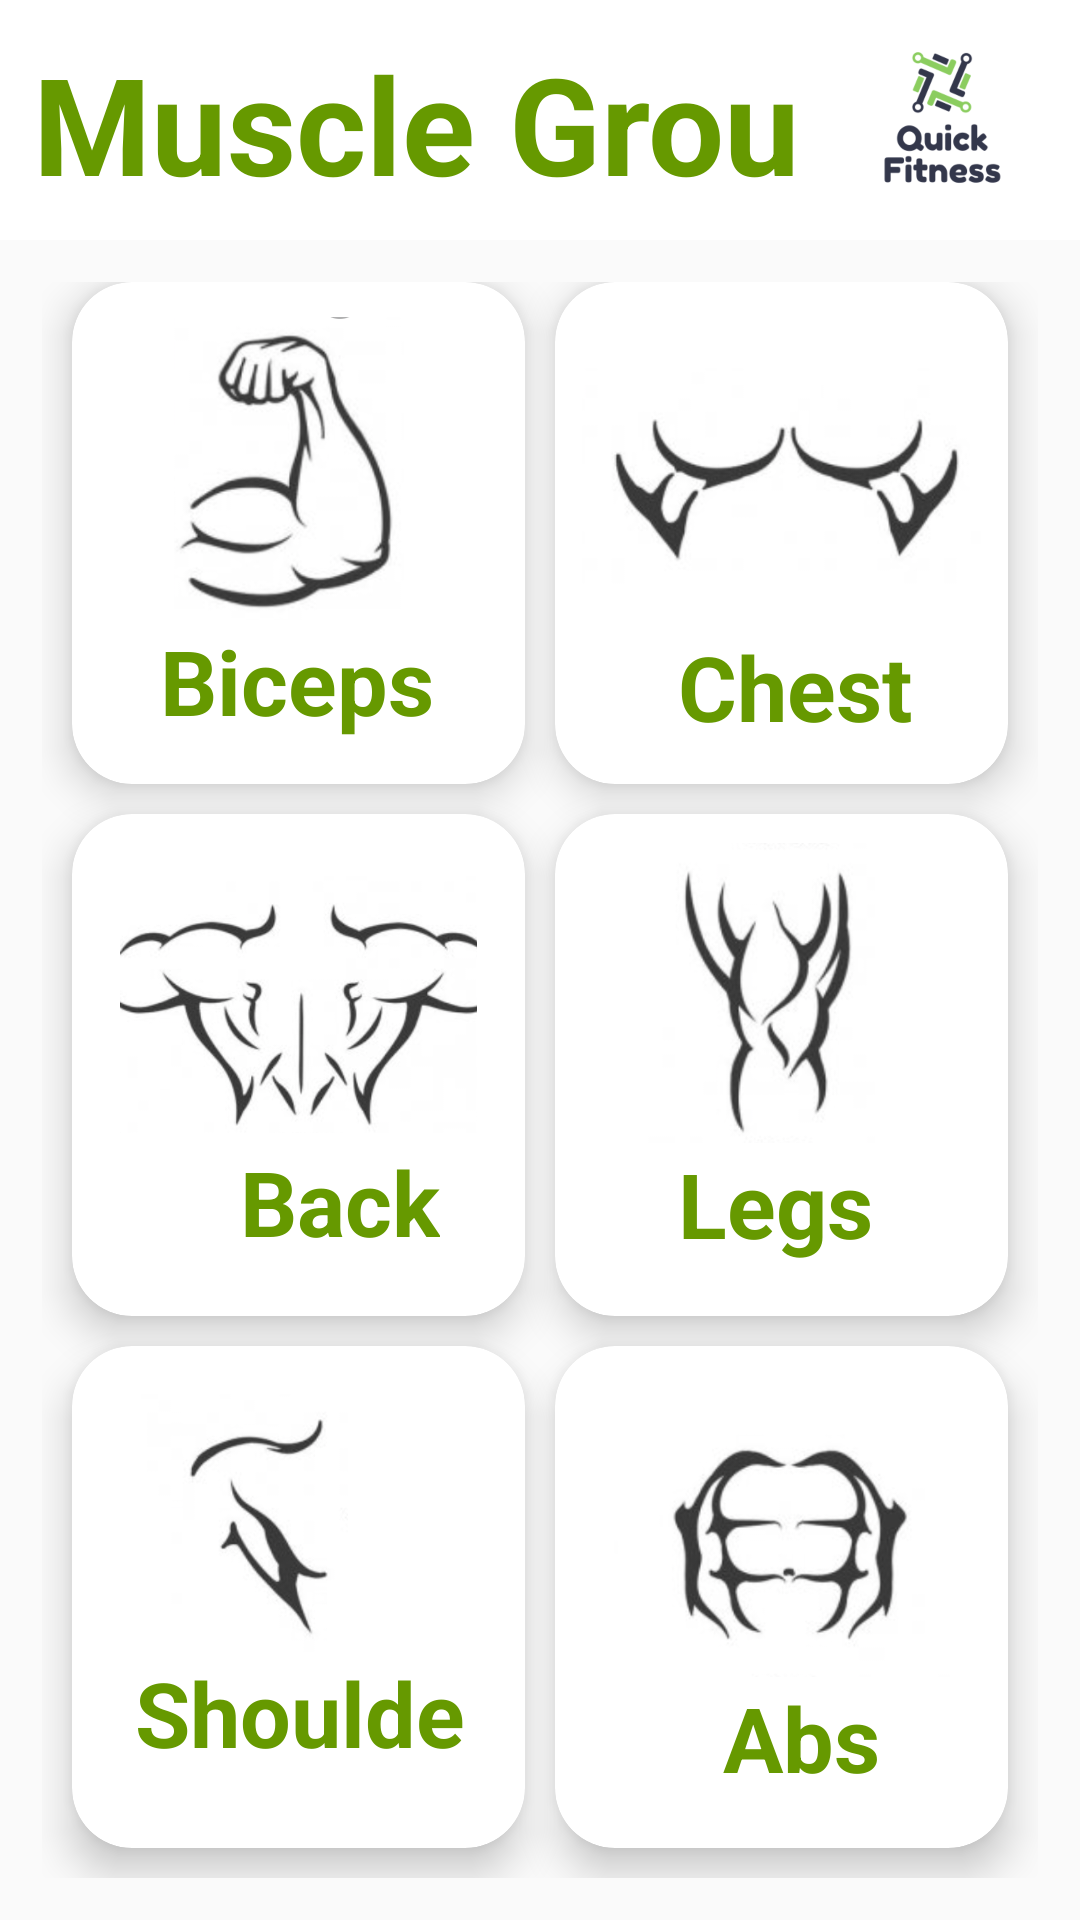

Screen size 1080×1920. Icon name, then its box in pixels as {"x1": x1, "y1": y1, "x2": x2, "y2": y2}:
arm: {"x1": 180, "y1": 317, "x2": 392, "y2": 608}
